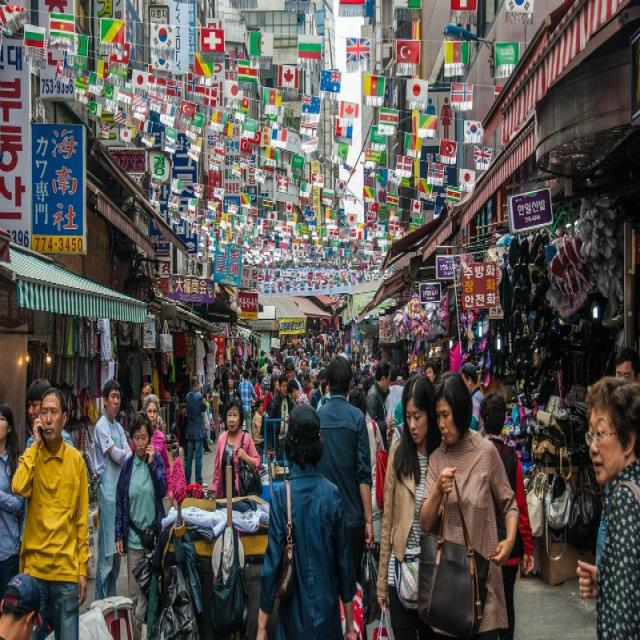body: (414, 368, 524, 638), (253, 403, 359, 639), (8, 384, 92, 639), (375, 372, 445, 640), (314, 352, 376, 639), (574, 372, 640, 638), (478, 390, 536, 640), (113, 410, 169, 638), (18, 378, 76, 552), (596, 344, 640, 571), (92, 380, 134, 603), (213, 328, 380, 372), (348, 384, 388, 540), (210, 398, 264, 501), (0, 400, 26, 602), (129, 393, 175, 507), (182, 374, 209, 489), (0, 572, 45, 639), (365, 361, 396, 454), (267, 376, 295, 464), (459, 361, 486, 440), (250, 397, 280, 466), (260, 375, 281, 467), (386, 365, 408, 431), (237, 368, 258, 436), (138, 383, 165, 435), (221, 372, 243, 432), (210, 375, 225, 438), (310, 367, 329, 411), (286, 378, 312, 408), (250, 367, 262, 430), (340, 373, 370, 398), (260, 362, 275, 402), (290, 371, 312, 396), (424, 360, 438, 385), (258, 356, 270, 380), (256, 351, 266, 371), (320, 380, 330, 396)
